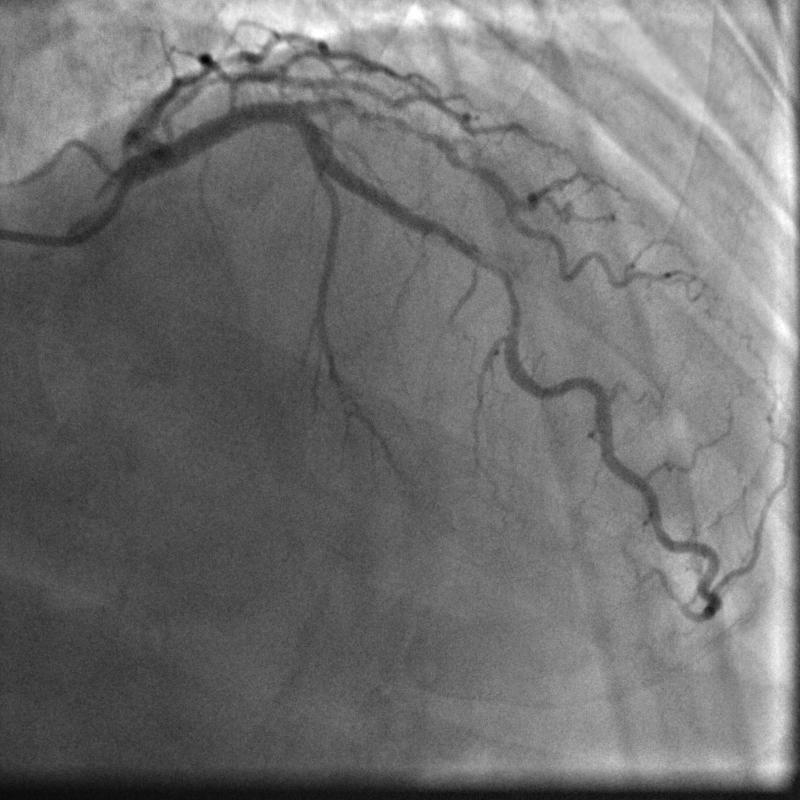Stenosis: (475, 254, 523, 335)
